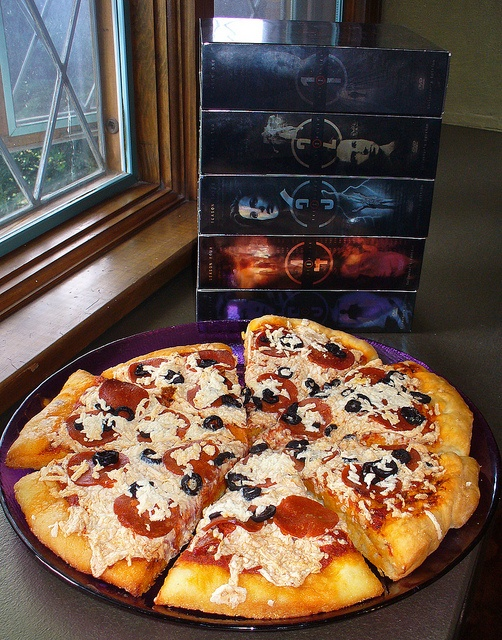pizza: (9, 319, 486, 640)
